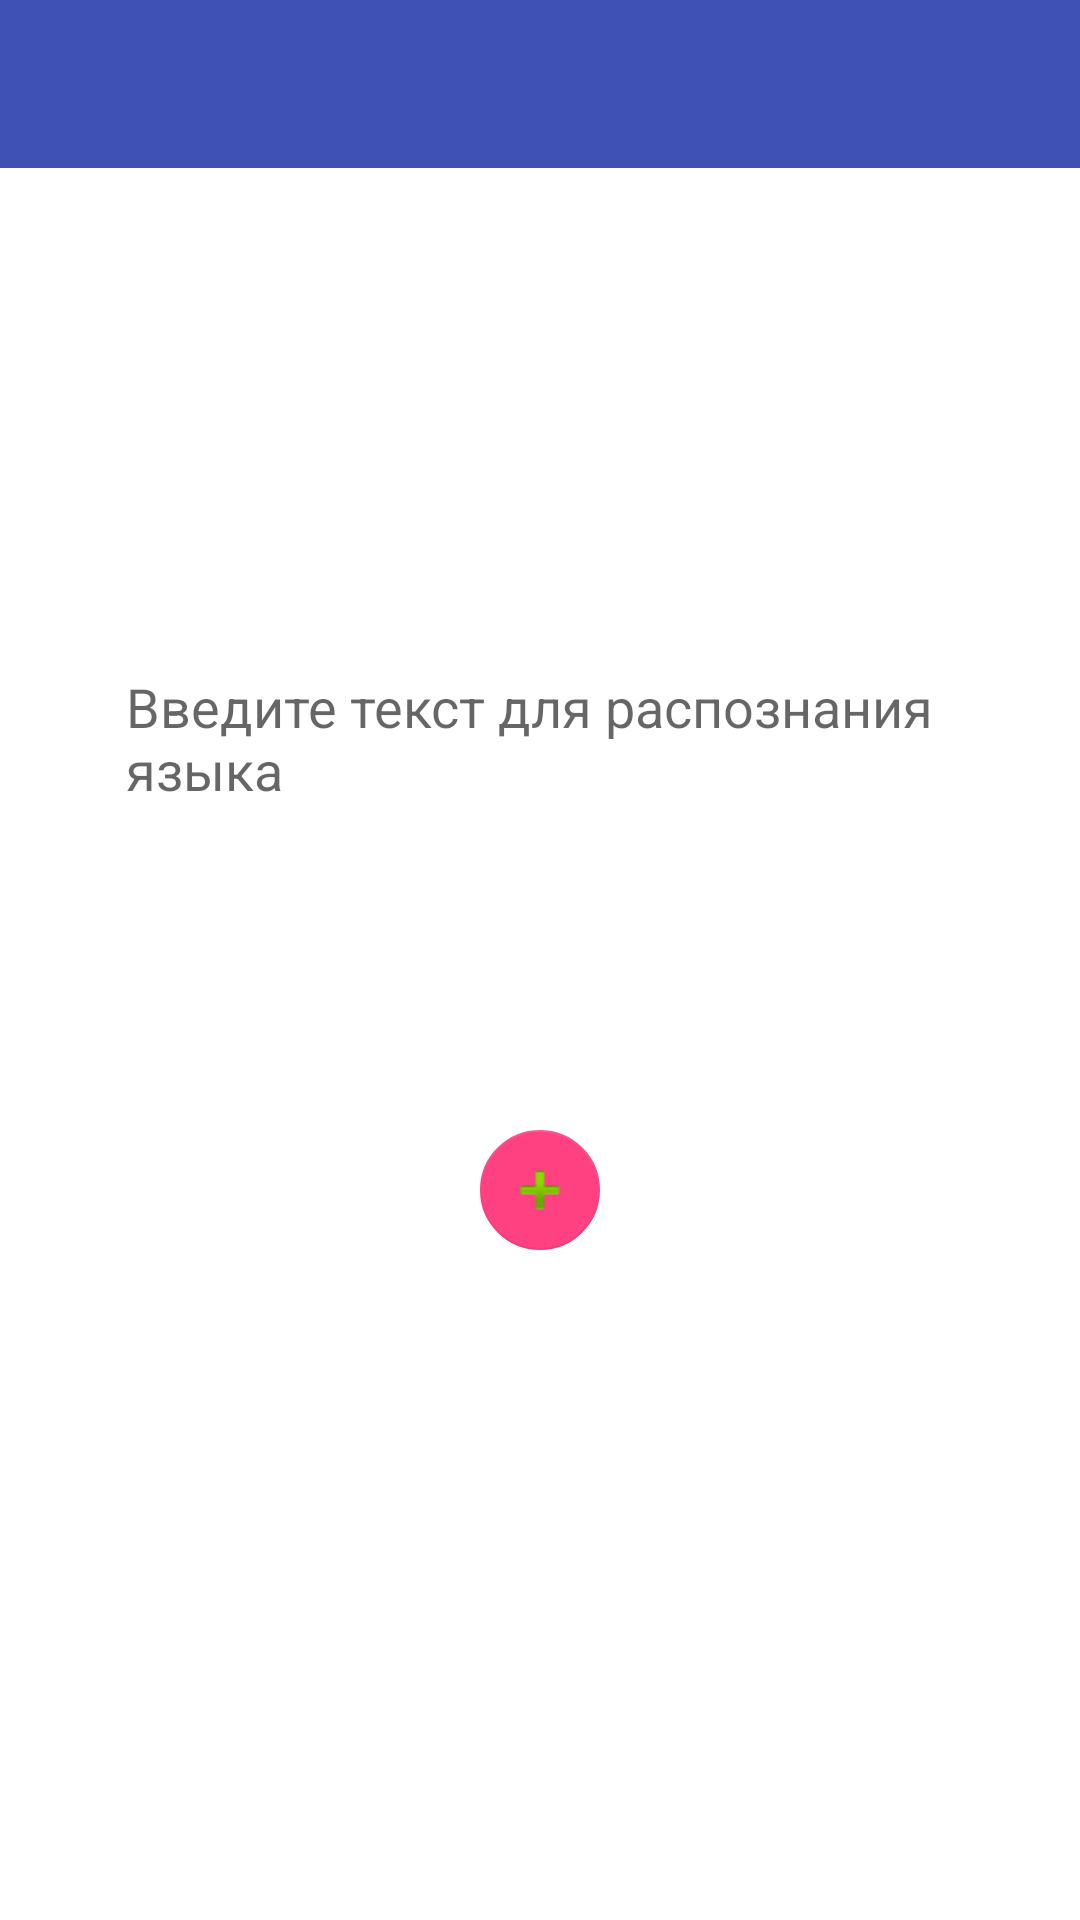

Named icons in this screenshot (1080*1920) and their bounding boxes, [x1, y1, x2, y2]:
add: [480, 1130, 600, 1250]
